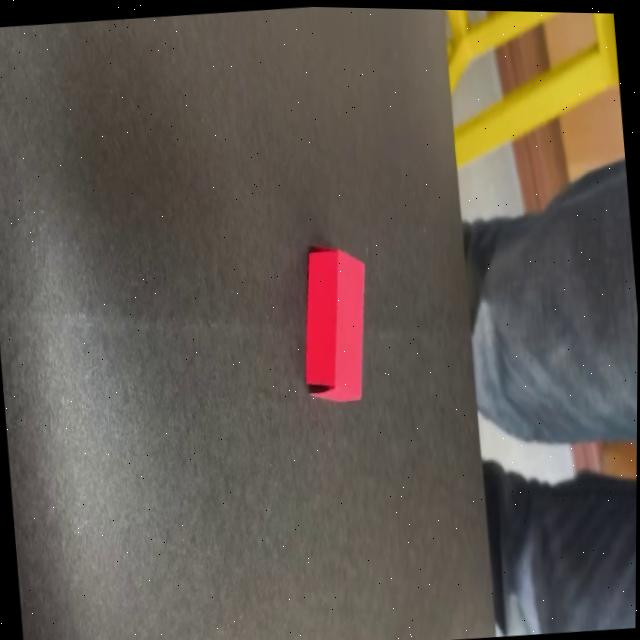red block: (293, 243, 377, 408)
